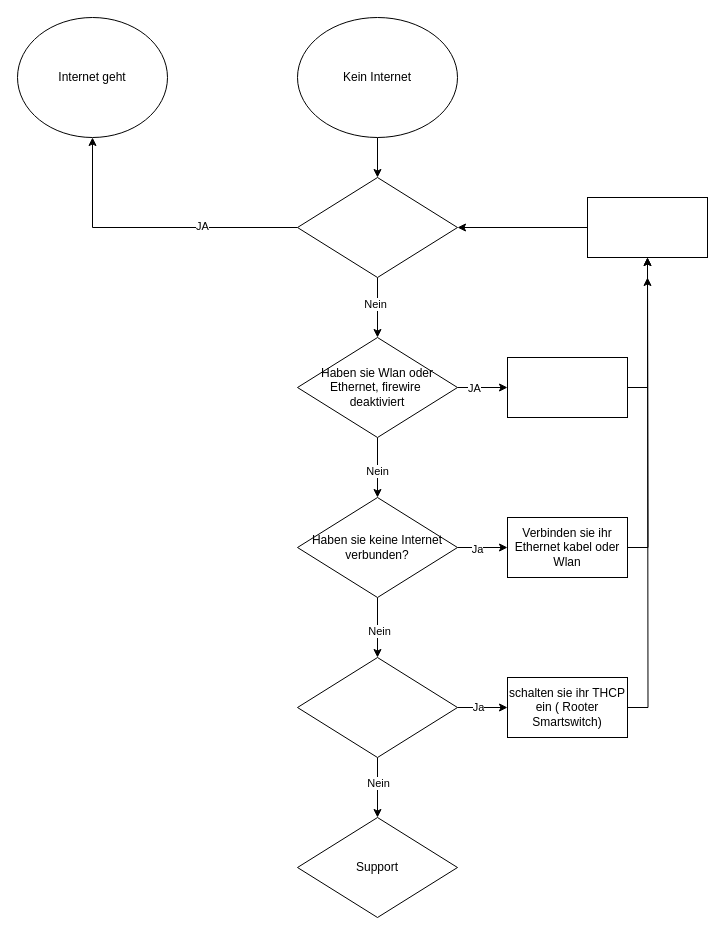
Image size: 725x935. Some labels were removed from this diagram. The shapes that lost their labels are listed below. From the top down, each one's centre as x and y in pixels, then its label:
(x=377, y=227): Haben sie Internet
(x=647, y=227): Pozess neu starten
(x=567, y=387): Internet Medium Aktivieren
(x=377, y=707): Haben sie keine Ip adresse
